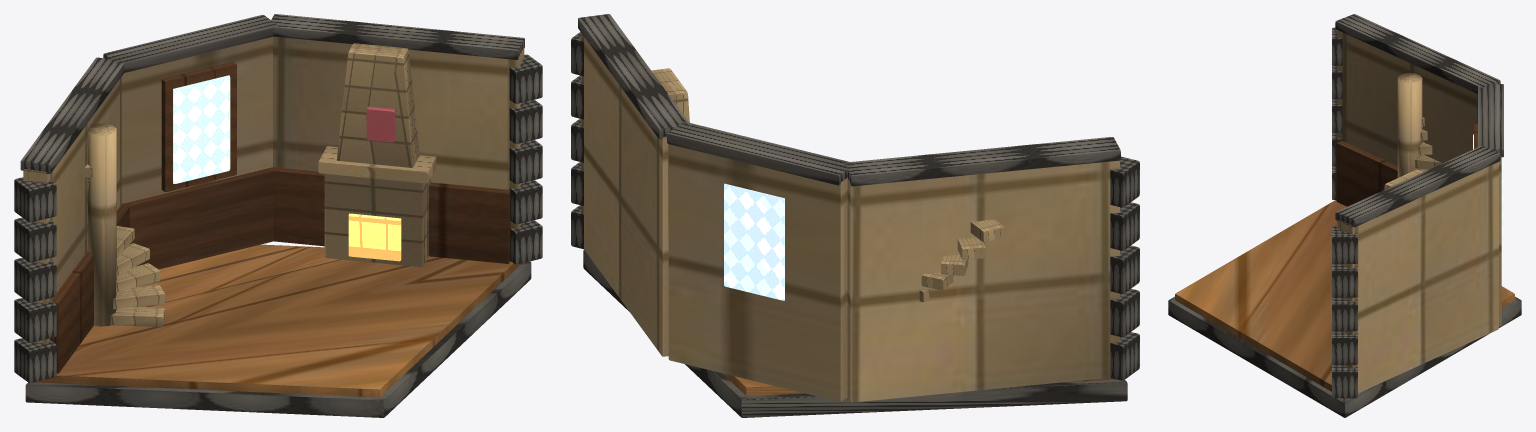
Rendered from env_castle_tower_room.glb.
3 views of the same model, side by side, from view 1: azimuth 30°, elevation 25°; view 2: azimuth 150°, elevation 25°; view 3: azimuth 270°, elevation 25° (orthographic). The views are drawn at different scales.
Parts seen in each view (by area): view 1: TR_Floor, TR_WallR, TR_WallC, TR_Floor_Rim, TR_WallC_Wain, TR_WallR_Wain, TR_FPChim, TR_FPBase, TR_WallL, TR_WallR_Cope, TR_WinGlass, TR_StairCol (+21 smaller); view 2: TR_WallL, TR_WallC, TR_WallR, TR_Floor_Rim, TR_WallL_Cope, TR_WinGlass, TR_WallR_Cope, TR_WallC_Cope, TR_Quoin_-3.8_4, TR_Quoin_-3.8_2, TR_Quoin_-3.8_0, TR_Quoin_-3.8_1 (+5 smaller); view 3: TR_WallR, TR_Floor, TR_WallL, TR_Floor_Rim, TR_WallR_Cope, TR_WallL_Cope, TR_WallL_Wain, TR_StairCol, TR_WallC_Cope, TR_Quoin_3.8_4, TR_Quoin_3.8_2, TR_Quoin_3.8_0 (+6 smaller).
Part boxes in pixels (box(x1,y1,x2,y2)): TR_Floor: box(35, 244, 521, 397); TR_WallR: box(273, 36, 524, 228); TR_WallC: box(121, 37, 272, 203); TR_Floor_Rim: box(25, 261, 531, 417); TR_WallC_Wain: box(124, 167, 277, 269); TR_WallR_Wain: box(269, 167, 510, 263); TR_FPChim: box(336, 43, 419, 167); TR_FPBase: box(324, 174, 430, 266); TR_WallL: box(23, 77, 121, 343); TR_WallR_Cope: box(269, 14, 524, 59); TR_WinGlass: box(173, 75, 230, 183); TR_StairCol: box(87, 123, 116, 326); TR_WallL: box(847, 160, 1119, 402); TR_WallC: box(668, 144, 847, 401); TR_WallR: box(581, 33, 668, 356); TR_Floor_Rim: box(583, 250, 1127, 417); TR_WallL_Cope: box(844, 137, 1120, 186); TR_WinGlass: box(724, 183, 784, 300); TR_WallR_Cope: box(578, 14, 690, 139); TR_WallC_Cope: box(667, 122, 854, 185); TR_Quoin_-3.8_4: box(1110, 156, 1139, 207); TR_Quoin_-3.8_2: box(1110, 245, 1139, 293); TR_Quoin_-3.8_0: box(1110, 332, 1139, 380); TR_Quoin_-3.8_1: box(1110, 288, 1139, 337); TR_WallR: box(1337, 162, 1498, 393); TR_Floor: box(1175, 200, 1514, 399); TR_WallL: box(1337, 30, 1477, 165); TR_Floor_Rim: box(1168, 296, 1521, 417); TR_WallR_Cope: box(1335, 146, 1500, 227); TR_WallL_Cope: box(1335, 14, 1500, 93); TR_WallL_Wain: box(1336, 141, 1397, 206); TR_StairCol: box(1397, 73, 1422, 177); TR_WallC_Cope: box(1478, 84, 1503, 157); TR_Quoin_3.8_4: box(1332, 226, 1357, 263); TR_Quoin_3.8_2: box(1332, 297, 1357, 331); TR_Quoin_3.8_0: box(1332, 364, 1357, 398).
Size of the model in its own units: 8.02 by 3.54 by 5.72.
6 materials, 5 textured.
